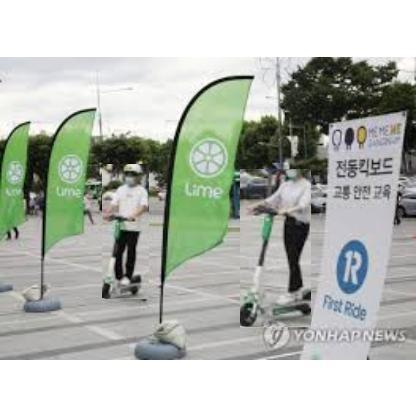with scooter: (240, 170, 312, 329), (102, 165, 149, 301)
